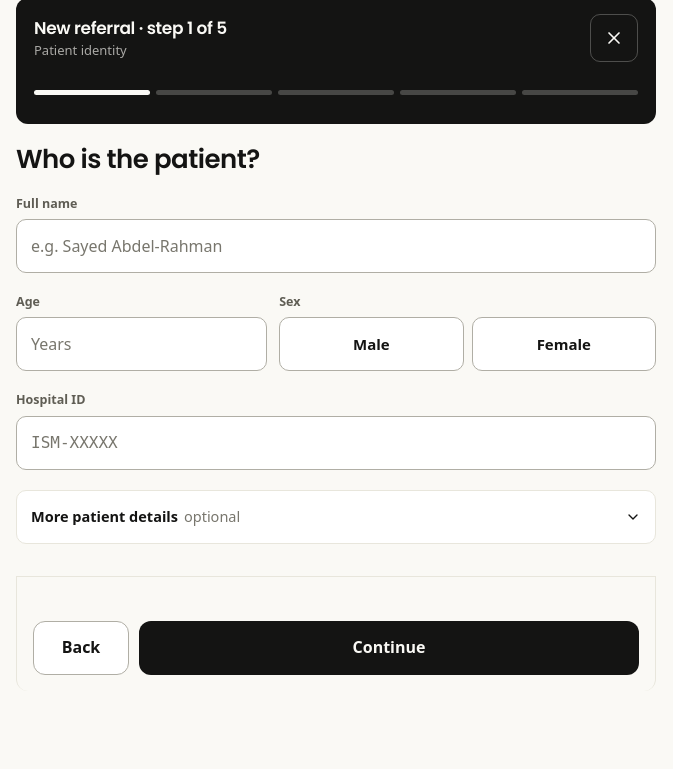
Test: Milestone 2 - Unified Referral Intake Wizard › NewReferralPage Full E2E & Contract Verification › renders all required DOM IDs and contracts
Expected: the field with id "hospitalId" is shown, [16,416,656,470]
Expected: the field labelled "Full name" is shown, [16,219,656,273]
Note: Step 2: vitals
Click the button named "Step 2:" at point(214, 92), box [156,68,272,116]
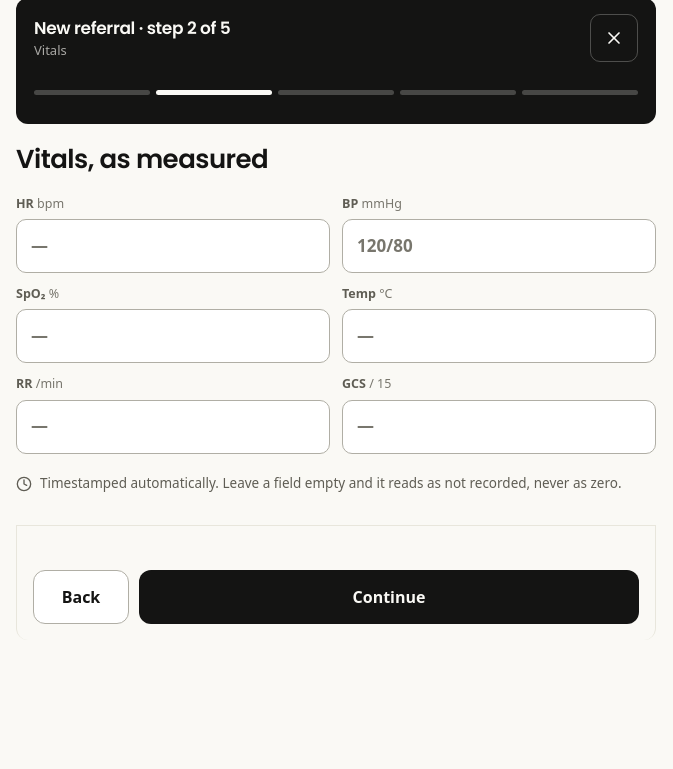
Expected: the number field labelled "HR bpm" is shown, [16,219,330,273]
Expected: the field labelled "BP mmHg" is shown, [342,219,656,273]
Expected: the number field labelled "SpO₂ %" is shown, [16,309,330,363]
Note: complaint and presentation
Click the button named "Step 3:" at point(336, 92), box [278,68,394,116]
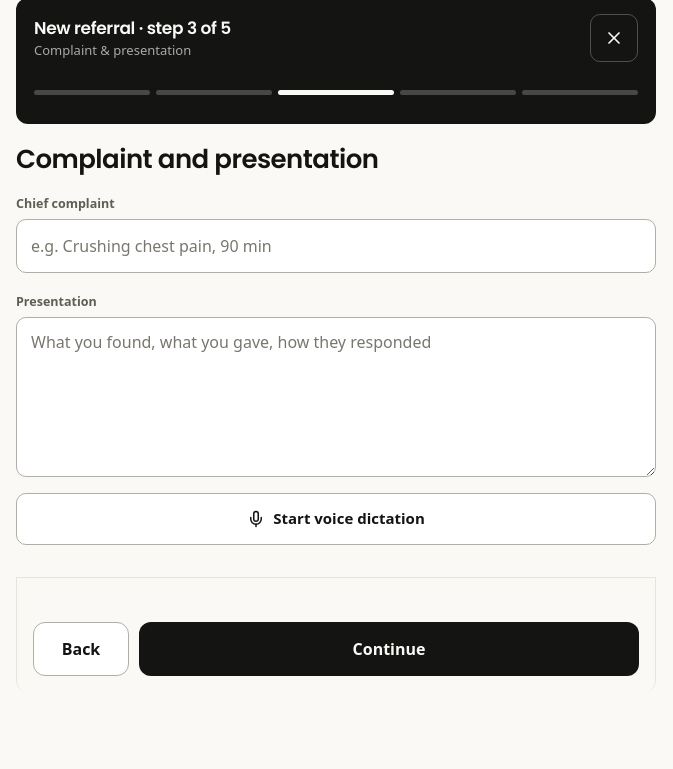
Expected: the field with id "complaint" is shown, [16,219,656,273]
Expected: the text box labelled "Presentation" is shown, [16,317,656,477]
Note: diagnosis, workup, attachments
Click the button named "Step 4:" at point(458, 92), box [400,68,516,116]
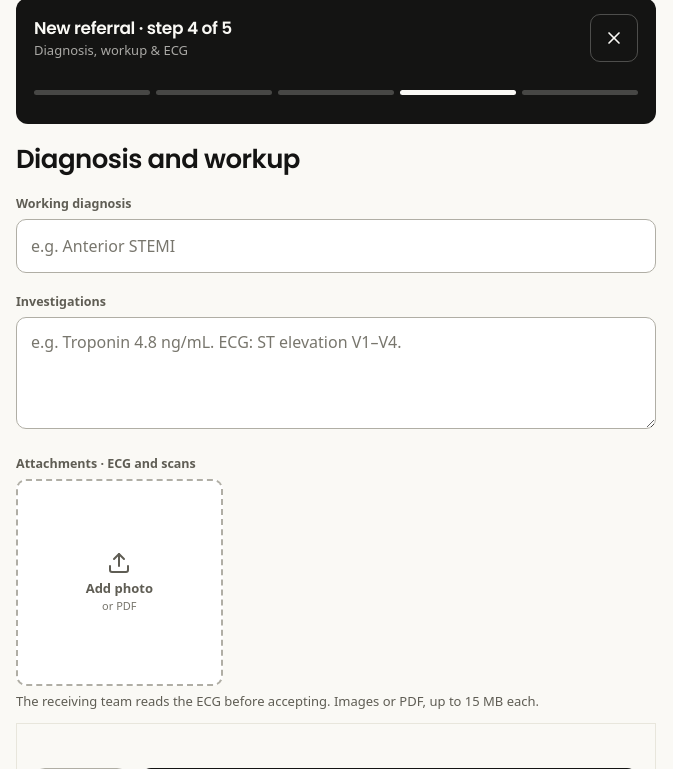
Expected: the field with id "diagnosis" is shown, [16,219,656,273]
Expected: the text box with id "investigations" is shown, [16,317,656,429]
Expected: the file field labelled "Add photo or PDF" is shown, [16,479,223,686]
Note: where it goes
Click the button named "Step 5:" at point(580, 92), box [522,68,638,116]
(page scrolled)
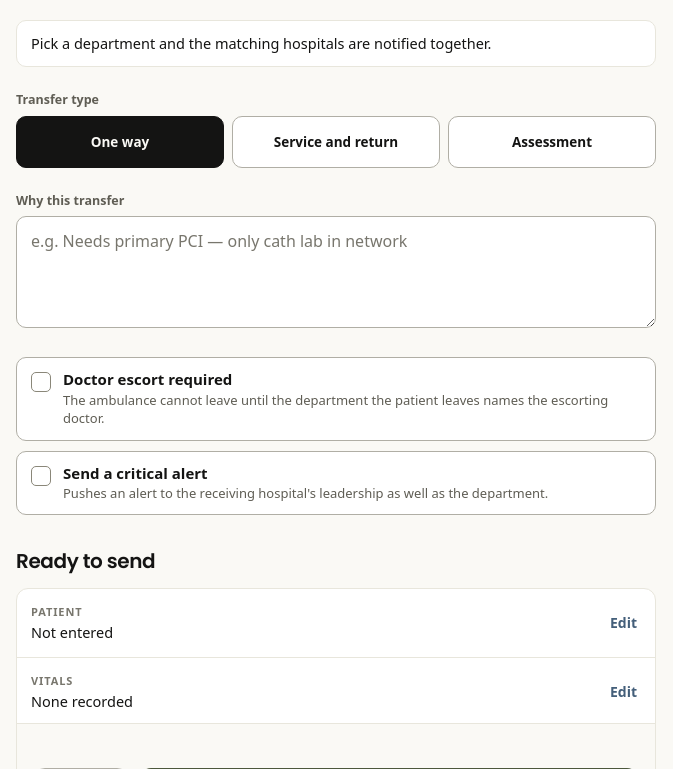
Expected: the text box with id "reasonForReferral" is shown, [16,216,656,328]
Expected: the checkbox with id "requires-accompanying-doctor" is shown, [16,357,656,440]
